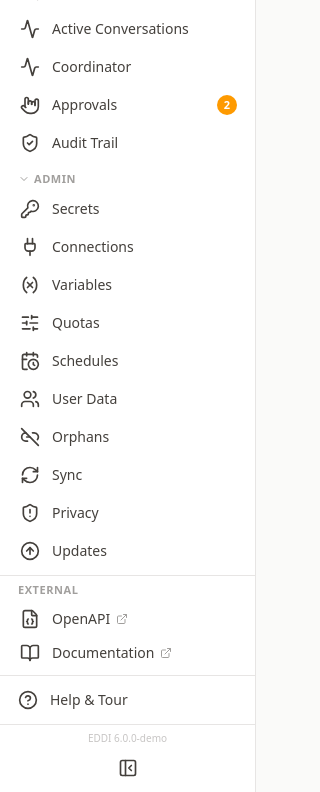
Test: Sidebar › opens help menu on click
(page scrolled)
Click the button with test id "sidebar-help". click: (128, 700)
box: [6,682,249,718]
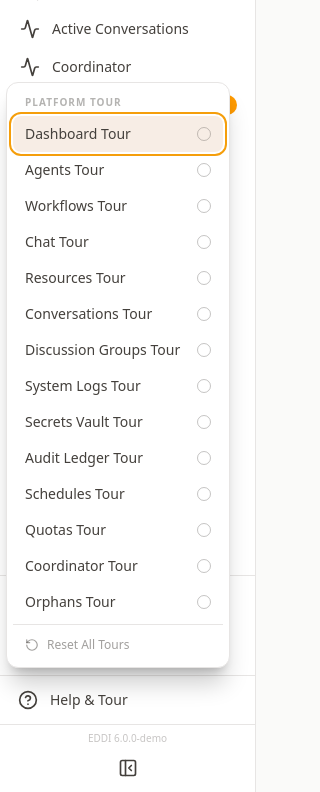
Now the menu with test id "help-menu-dropdown" is shown, box [6,82,230,668]
